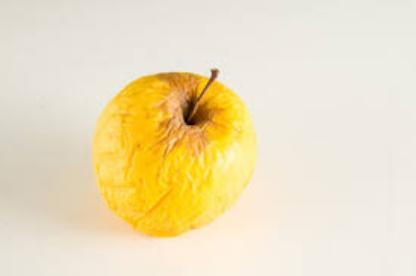defect: (116, 47, 259, 276)
